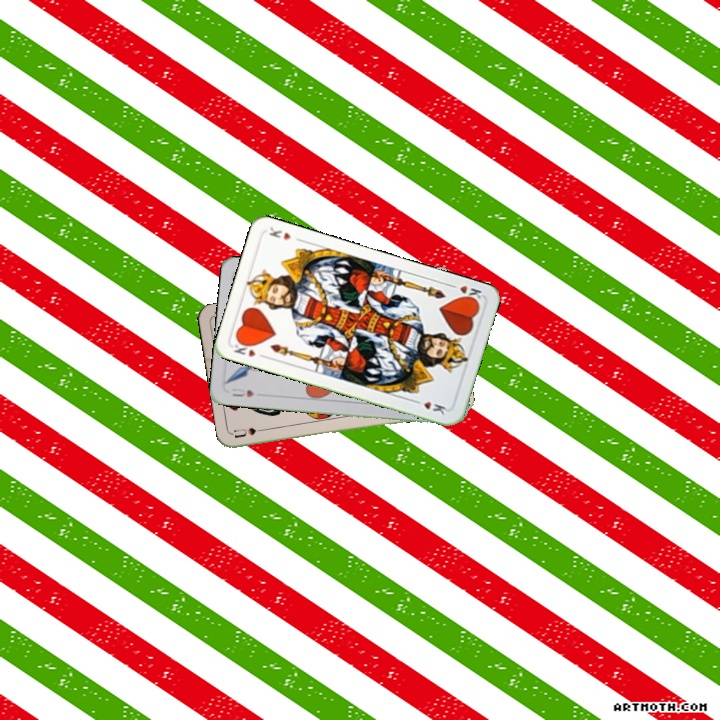HK: (445, 280, 484, 305), (230, 337, 269, 361)
HU: (228, 384, 257, 400)
SU: (231, 423, 272, 441)
